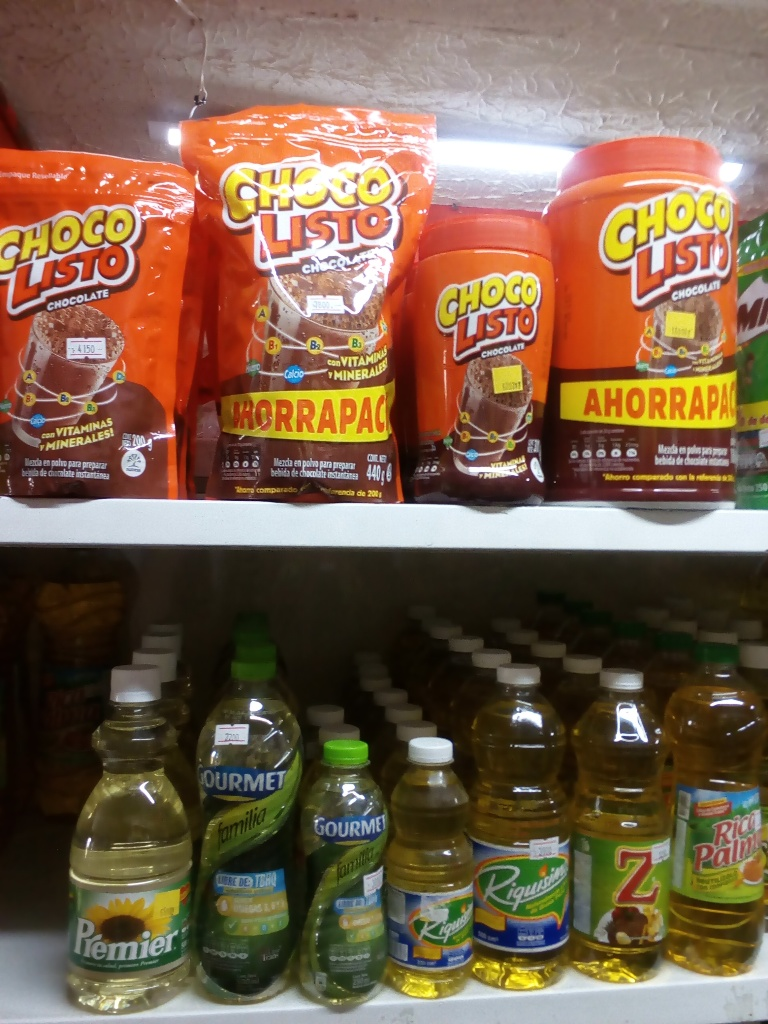COL0170103DYP44000: (186, 72, 423, 505)
COL0170103TRR00100: (547, 134, 747, 503)
